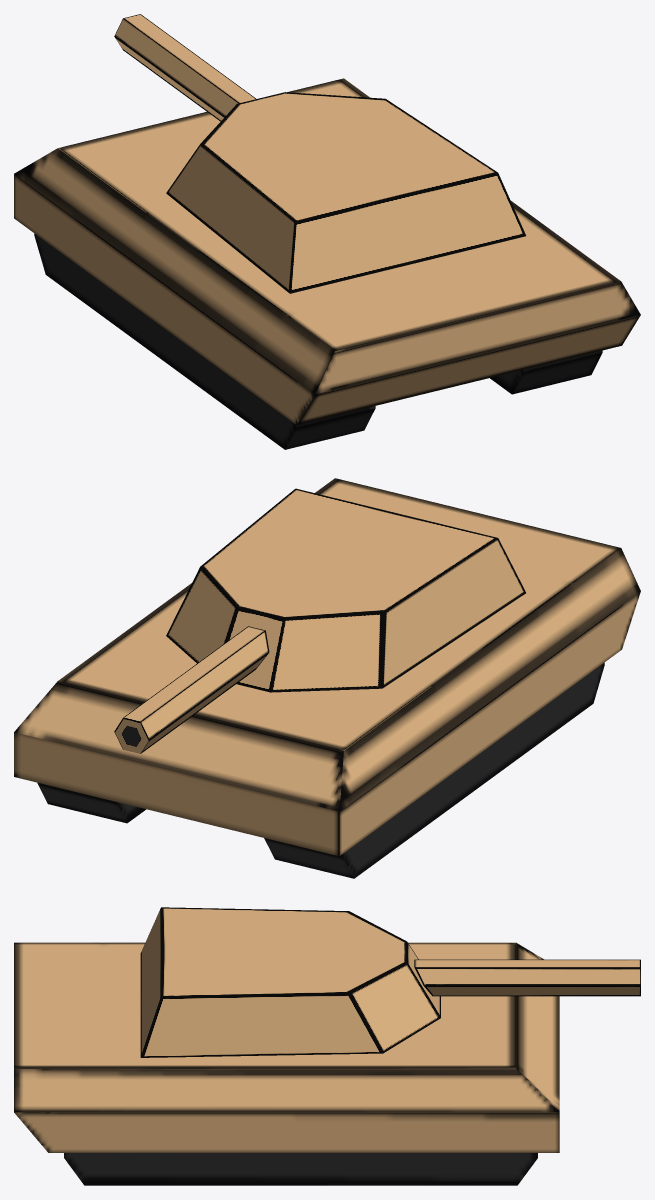
The model's file is tank.gltf.
3 views of the same model, one above another, from view 1: azimuth 30°, elevation 25°; view 2: azimuth 150°, elevation 25°; view 3: azimuth 270°, elevation 25° (orthographic). The views are drawn at different scales.
Visible parts, largest first — view 1: Body, Head, Track2, Track1; view 2: Body, Head, Track2, Track1; view 3: Body, Head, Track1.
Part boxes in pixels (<box>): Body: <box>14,78,640,424</box>; Head: <box>114,14,525,293</box>; Track2: <box>34,233,375,449</box>; Track1: <box>490,350,602,394</box>; Body: <box>14,478,640,856</box>; Head: <box>114,488,525,753</box>; Track2: <box>264,662,604,878</box>; Track1: <box>37,782,145,823</box>; Body: <box>14,942,559,1152</box>; Head: <box>140,907,640,1057</box>; Track1: <box>64,1153,537,1185</box>.
Size of the model in its own units: 10.01 by 5.4 by 18.44.
Materials: 4 (4 with a texture image).
